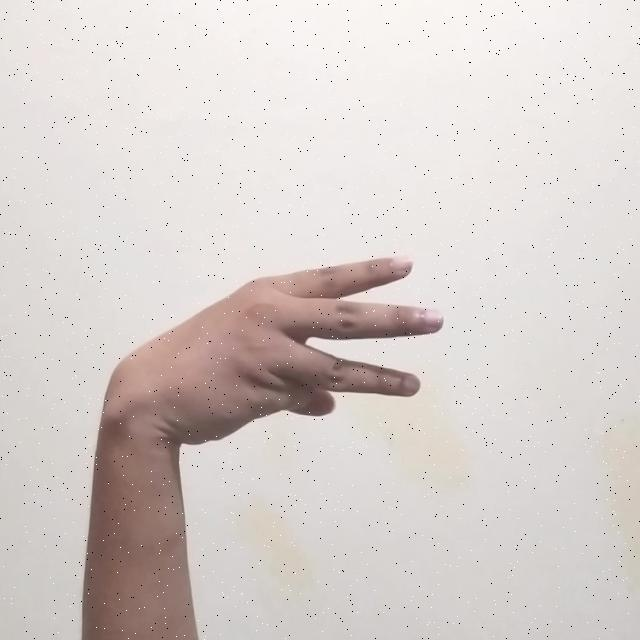E: (98, 246, 455, 448)
